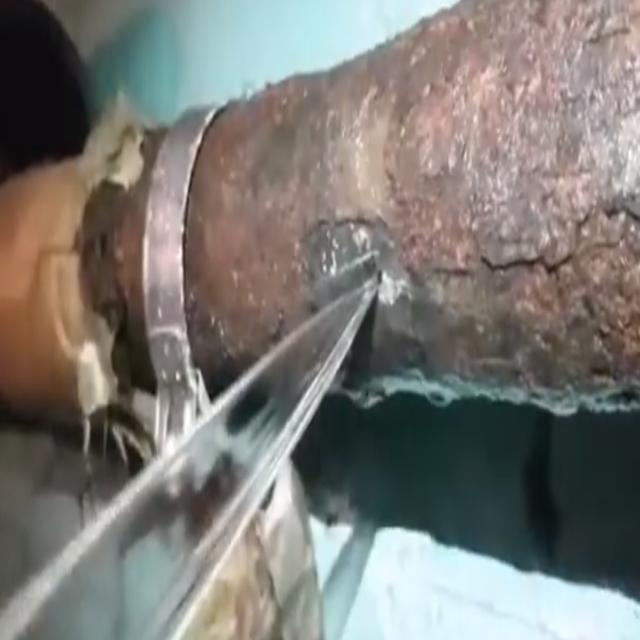leak: (0, 273, 380, 640)
